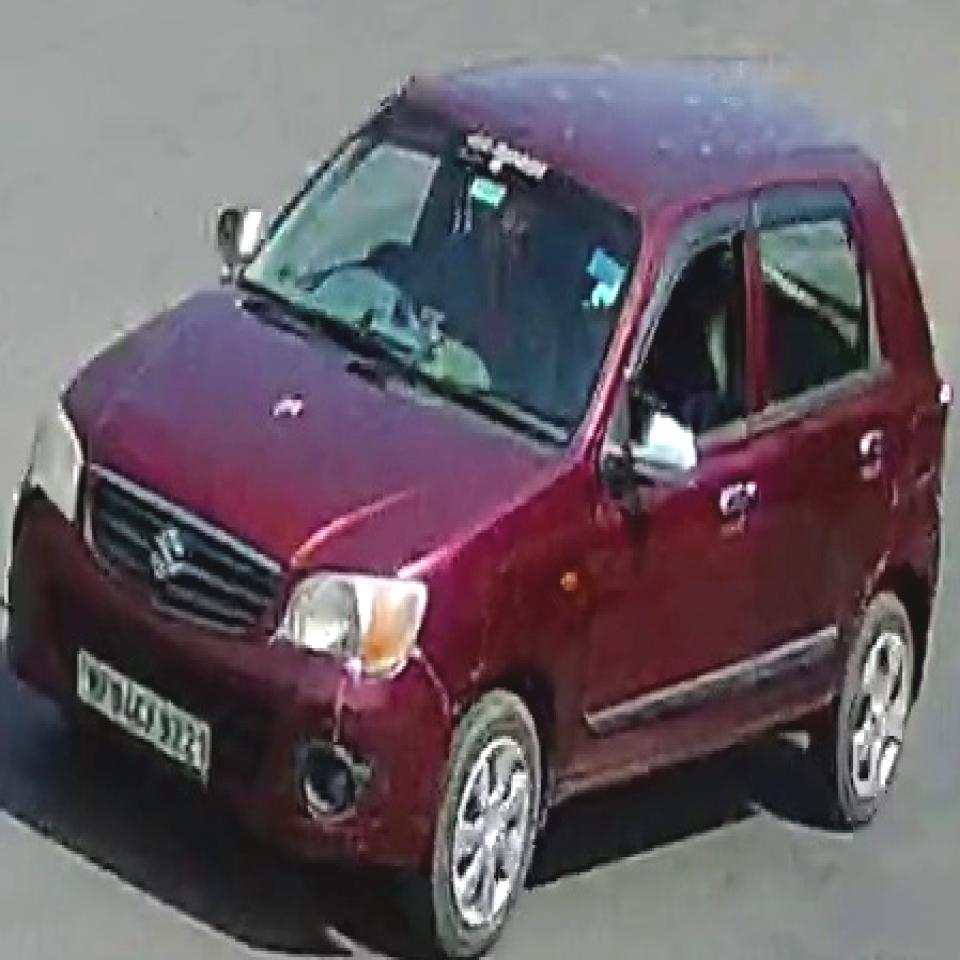head_light: (274, 571, 430, 673), (24, 401, 80, 521)
